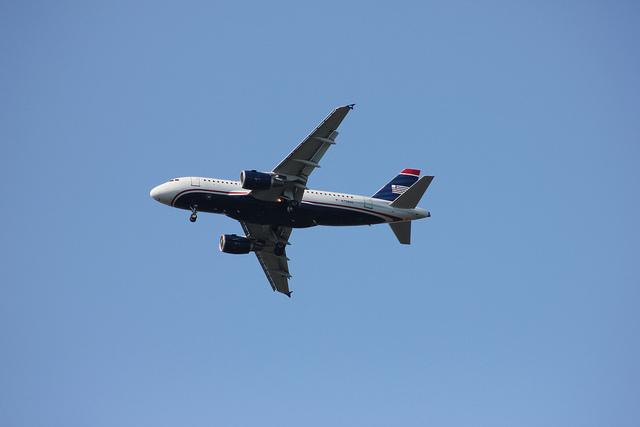airplane: (140, 100, 435, 300)
